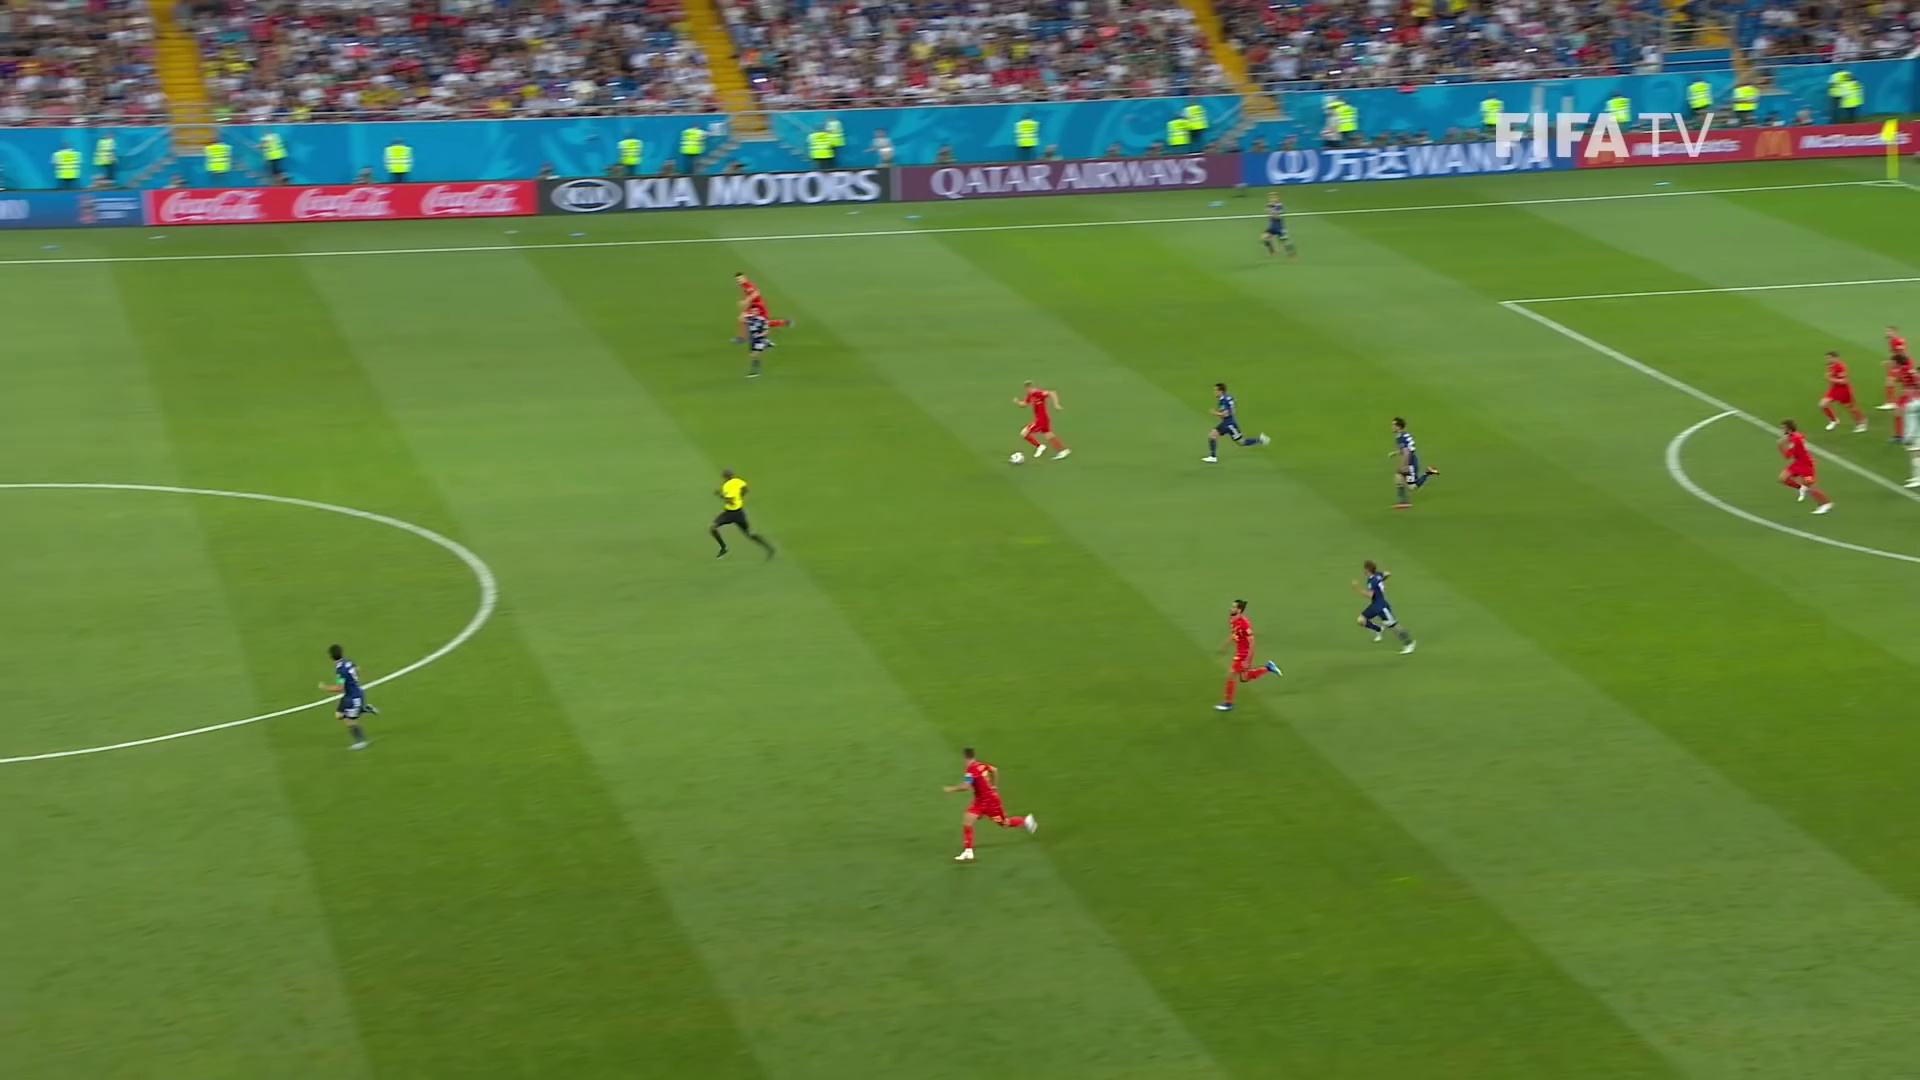ball: (1009, 453, 1024, 465)
person: (944, 744, 1035, 857), (1215, 600, 1279, 709), (1351, 562, 1415, 654), (1203, 382, 1269, 462), (1776, 419, 1831, 513), (324, 645, 375, 741), (1386, 418, 1438, 508), (1015, 379, 1070, 460), (737, 272, 792, 350), (1819, 354, 1870, 432), (1260, 192, 1297, 259), (743, 308, 770, 378)
